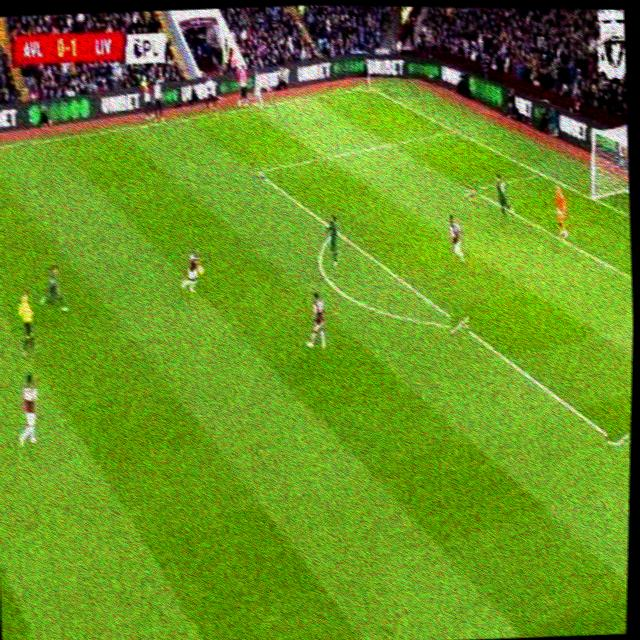bigarea_bottom_inner: (607, 427, 630, 457)
bigarea_top_inner: (248, 158, 266, 181)
bigarea_top_outter: (445, 121, 461, 138)
bottom_arc_area_intersection: (450, 313, 470, 336)
corner: (358, 79, 377, 95)
smallarea_top_inner: (464, 178, 482, 200)
smallarea_top_outter: (533, 162, 549, 182)
